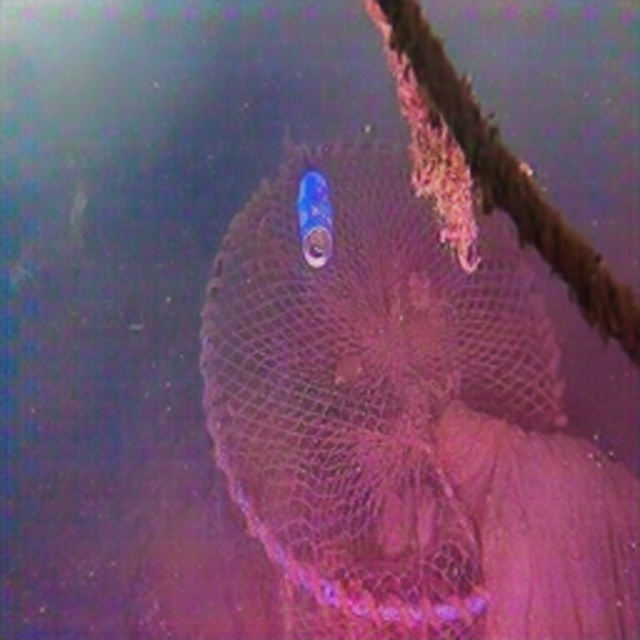mine: (195, 127, 570, 639)
